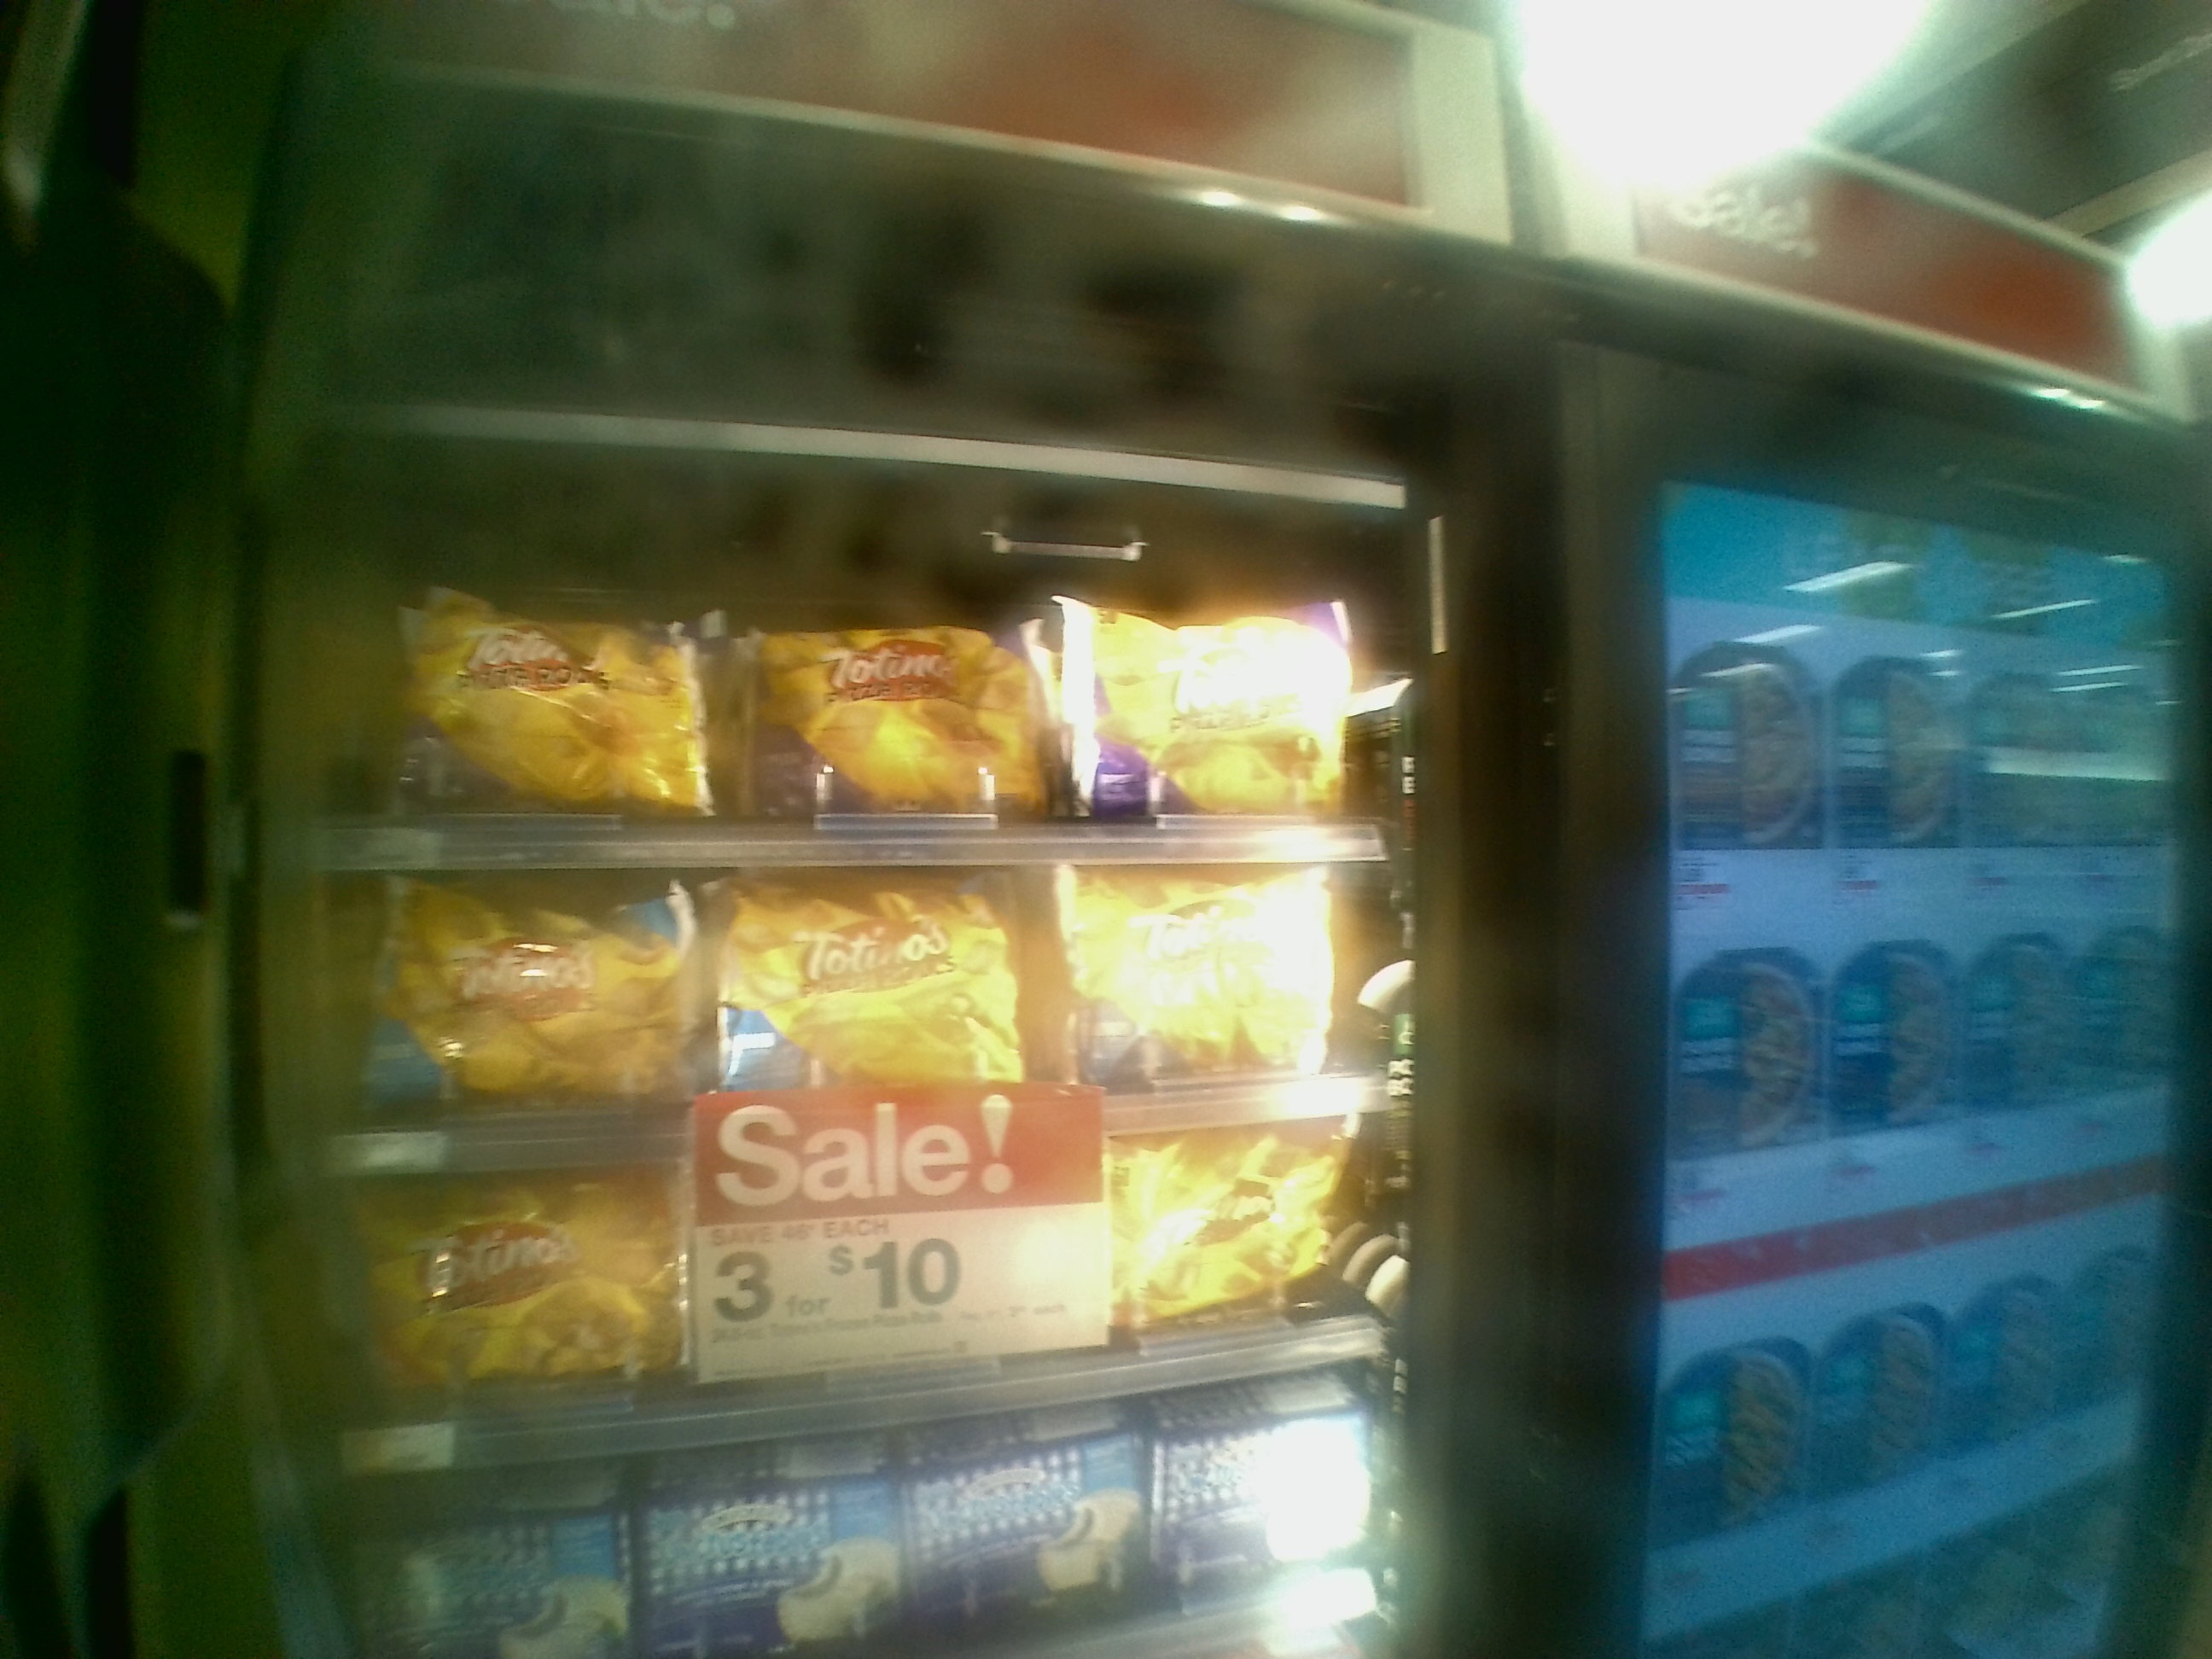shelf: (256, 406, 1423, 870), (270, 833, 1423, 1148), (254, 1143, 1399, 1396)
